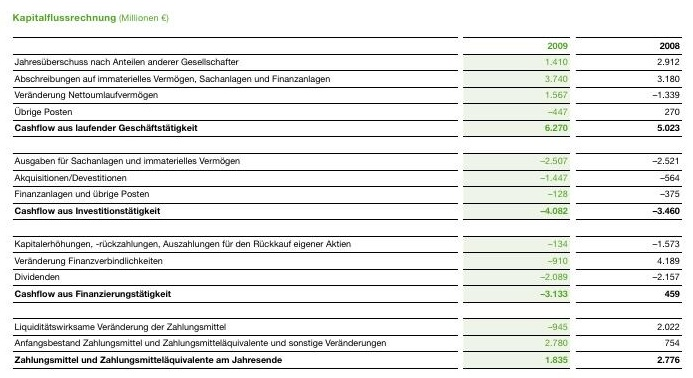table: (0, 0, 693, 378)
